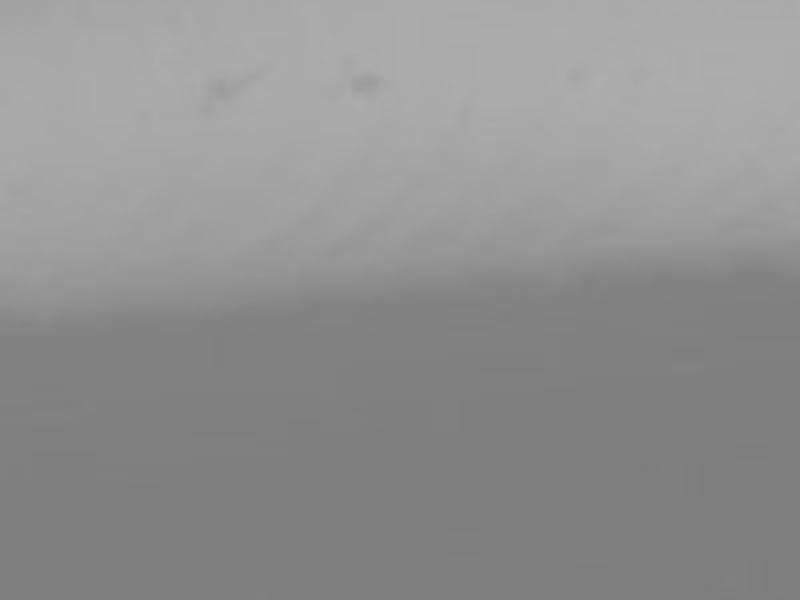defect: (201, 78, 236, 110), (353, 73, 381, 101), (564, 59, 591, 87)
